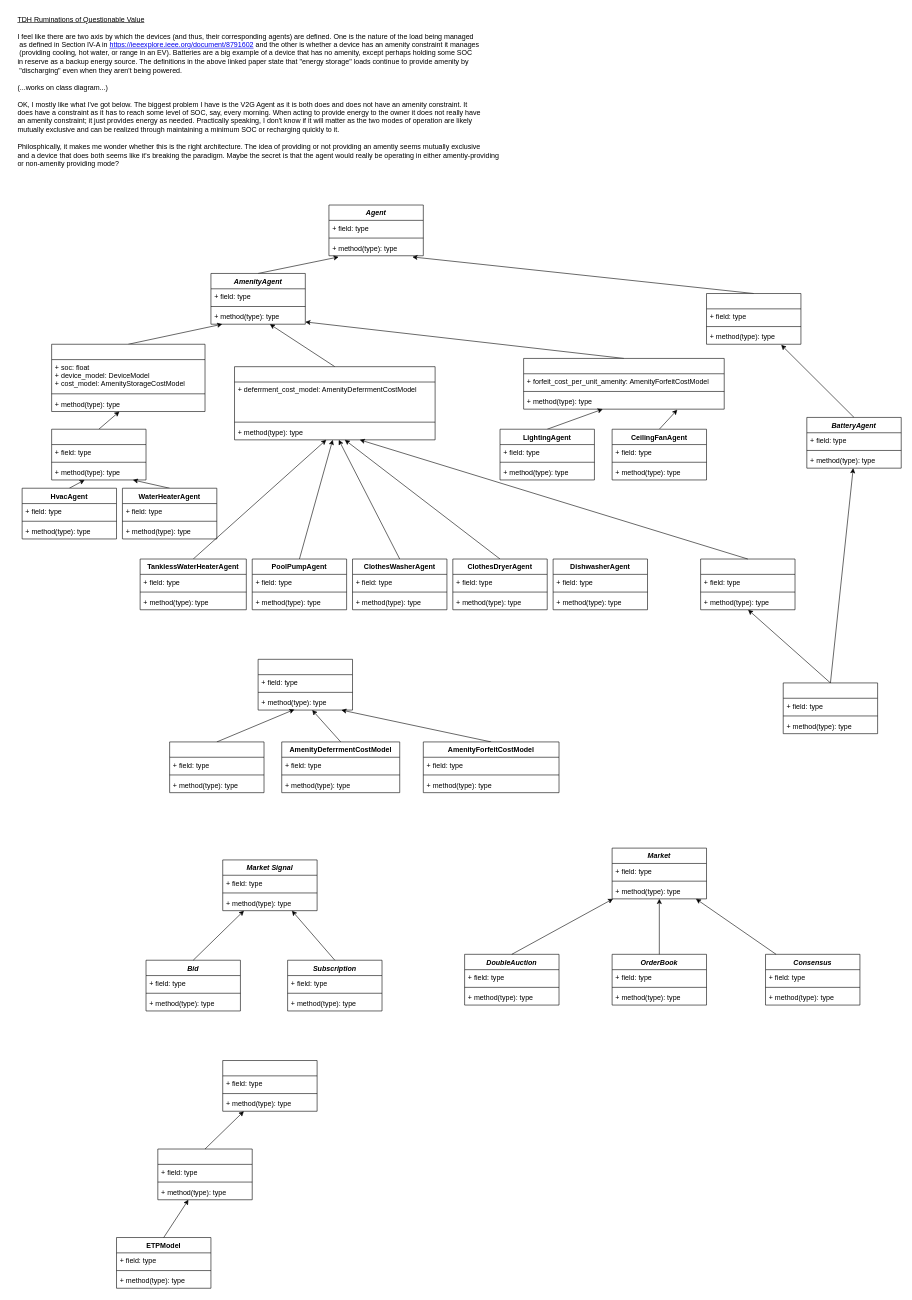
Some shapes in this 912 by 1300 pixel diagram are drawn without their labels. Here are the shapes that lost their labels. From the top down, the box of each, then its label:
(706, 293, 801, 344): NonAmenityAgent
(51, 344, 205, 412): AmenityStorageAgent
(523, 358, 724, 409): ForfeitedAmenityAgent
(234, 366, 435, 440): DeferrableAmenityAgent
(51, 429, 146, 480): ThermostaticLoadAgent
(700, 558, 795, 610): V1GAgent
(258, 659, 353, 710): AmenityCostModel
(783, 682, 878, 734): V2GAgent
(169, 741, 264, 793): AmenityStorageCostModel
(222, 1060, 317, 1111): DeviceModel
(157, 1148, 252, 1200): SingleZoneStructure
